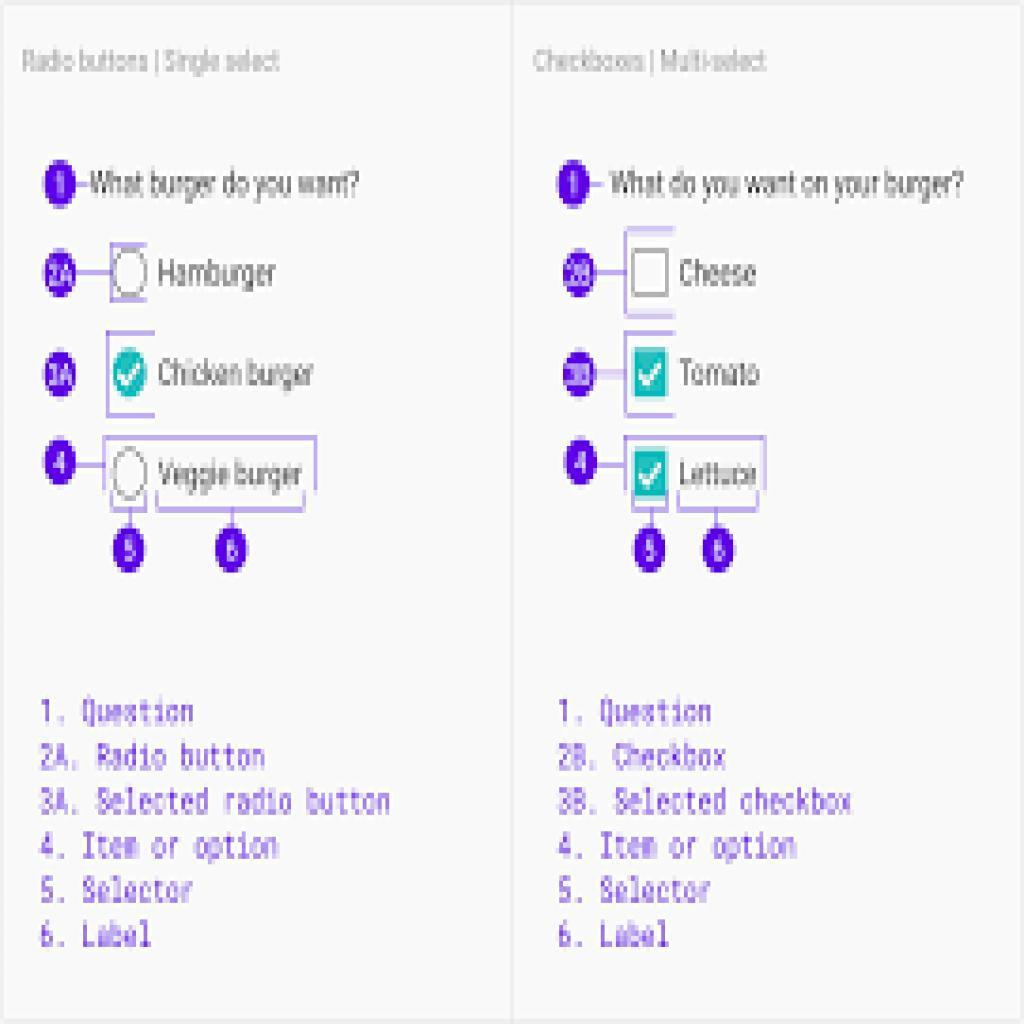checkbox: (630, 250, 671, 297), (634, 348, 670, 397), (632, 450, 668, 498)
radio: (111, 445, 148, 500), (113, 348, 148, 400), (115, 248, 148, 294)
